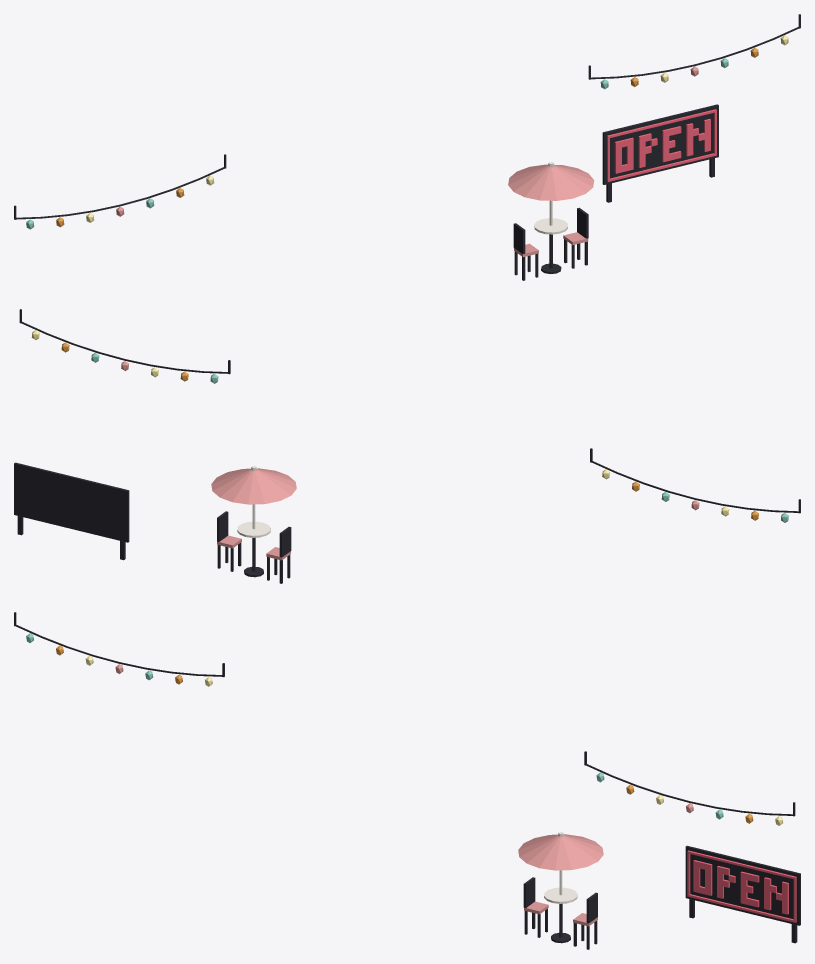
Rendered from CatCafe_Plot_Tier3.fbx.
The picture shows the model from 3 angles, top to bottom: view 1: azimuth 30°, elevation 25°; view 2: azimuth 150°, elevation 25°; view 3: azimuth 330°, elevation 25°; orthographic projection.
Visible parts, largest first — view 1: CatCafe_Plot_Tier3, CatCafe_Plot_Tier3_Bistro, CatCafe_Plot_Tier3_Sign_Tube, CatCafe_Plot_Tier3_StringLights_Bulbs; view 2: CatCafe_Plot_Tier3, CatCafe_Plot_Tier3_Bistro, CatCafe_Plot_Tier3_StringLights_Bulbs; view 3: CatCafe_Plot_Tier3, CatCafe_Plot_Tier3_Bistro, CatCafe_Plot_Tier3_Sign_Tube, CatCafe_Plot_Tier3_StringLights_Bulbs.
Boxes of the visible parts, <box> form: CatCafe_Plot_Tier3: <box>14,14,800,219</box>; CatCafe_Plot_Tier3_Bistro: <box>508,162,594,280</box>; CatCafe_Plot_Tier3_Sign_Tube: <box>607,109,716,181</box>; CatCafe_Plot_Tier3_StringLights_Bulbs: <box>26,35,788,229</box>; CatCafe_Plot_Tier3: <box>14,309,800,560</box>; CatCafe_Plot_Tier3_Bistro: <box>211,466,296,583</box>; CatCafe_Plot_Tier3_StringLights_Bulbs: <box>31,330,788,522</box>; CatCafe_Plot_Tier3: <box>14,612,800,943</box>; CatCafe_Plot_Tier3_Bistro: <box>518,832,603,949</box>; CatCafe_Plot_Tier3_Sign_Tube: <box>687,850,796,922</box>; CatCafe_Plot_Tier3_StringLights_Bulbs: <box>26,633,782,825</box>.
Bounding box in the file's own units: 39.68 × 9.71 × 5.22.
1 material, 1 textured.
